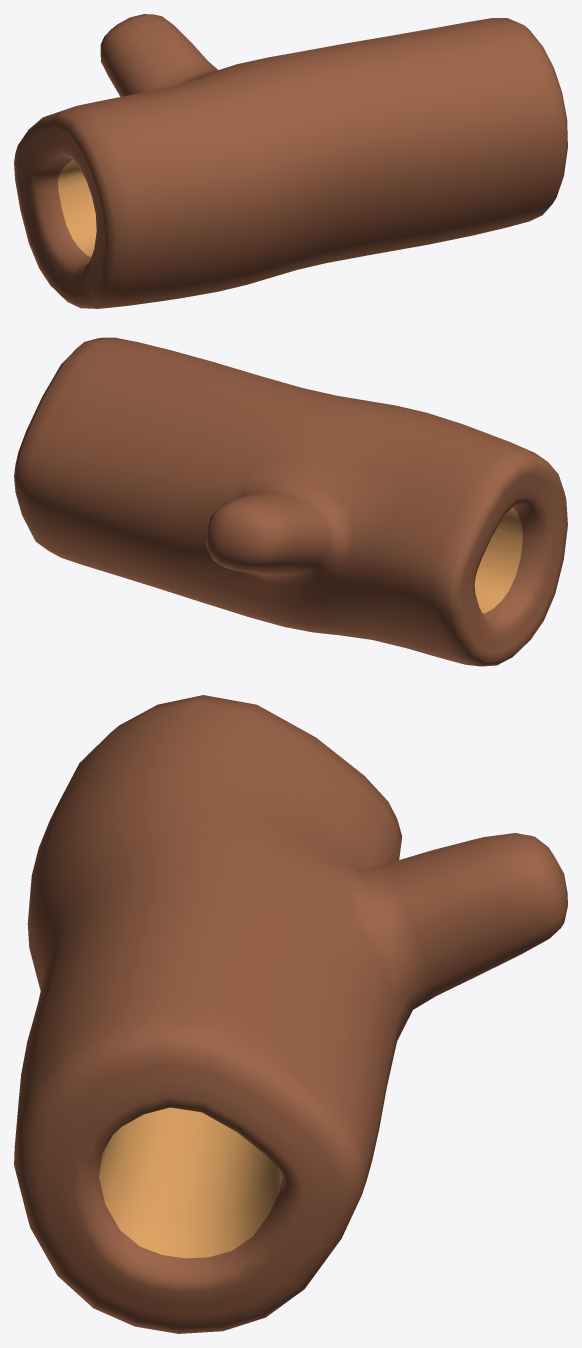
Rendered from Log_02.fbx.
The picture shows the model from 3 angles, top to bottom: view 1: azimuth 30°, elevation 25°; view 2: azimuth 150°, elevation 25°; view 3: azimuth 270°, elevation 25°; orthographic projection. The views are drawn at different scales.
Visible parts, largest first — view 1: Log_02_LOD0; view 2: Log_02_LOD0; view 3: Log_02_LOD0.
Boxes of the visible parts, bbox=[...] form: Log_02_LOD0: bbox=[14, 14, 567, 308]; Log_02_LOD0: bbox=[14, 337, 567, 666]; Log_02_LOD0: bbox=[14, 695, 567, 1333].
Size of what is drawn, in the model's own units: 591 by 253 by 393.
